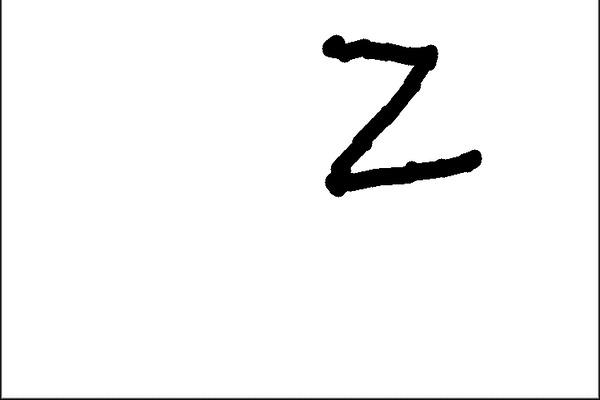Z: (317, 25, 490, 201)
